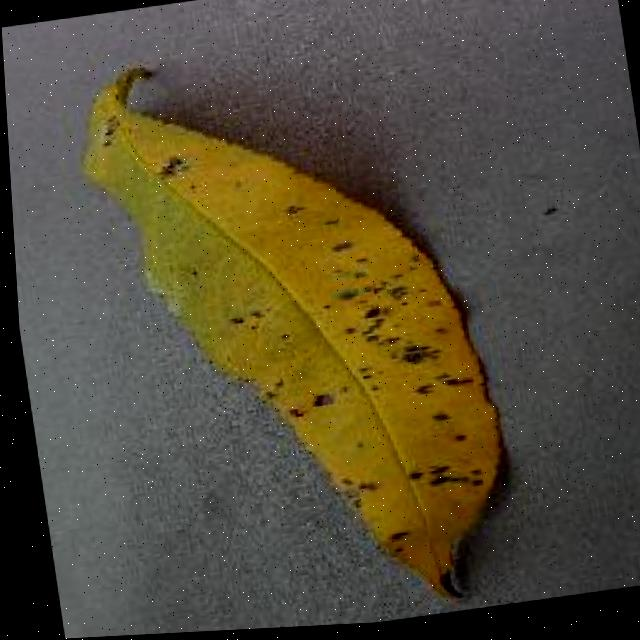Bacterial_spot: (49, 13, 543, 638)
